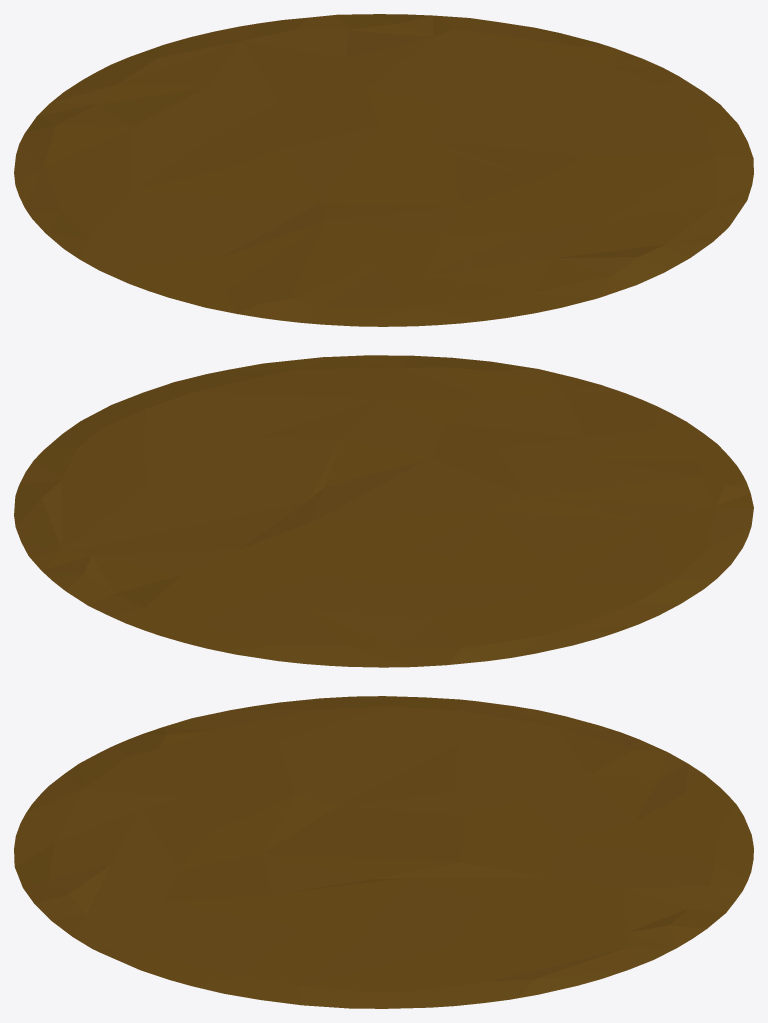
The model's file is Suelo.fbx.
3 renders of one model, top to bottom at view 1: azimuth 30°, elevation 25°; view 2: azimuth 150°, elevation 25°; view 3: azimuth 270°, elevation 25°, orthographic.
Visible parts, largest first — view 1: Icosphere.001; view 2: Icosphere.001; view 3: Icosphere.001.
Part boxes in pixels (bbox=[...]): Icosphere.001: bbox=[14, 14, 753, 326]; Icosphere.001: bbox=[14, 355, 753, 667]; Icosphere.001: bbox=[14, 696, 753, 1008].
Bounding box in the file's own units: 23.04 × 0.2701 × 23.04.
